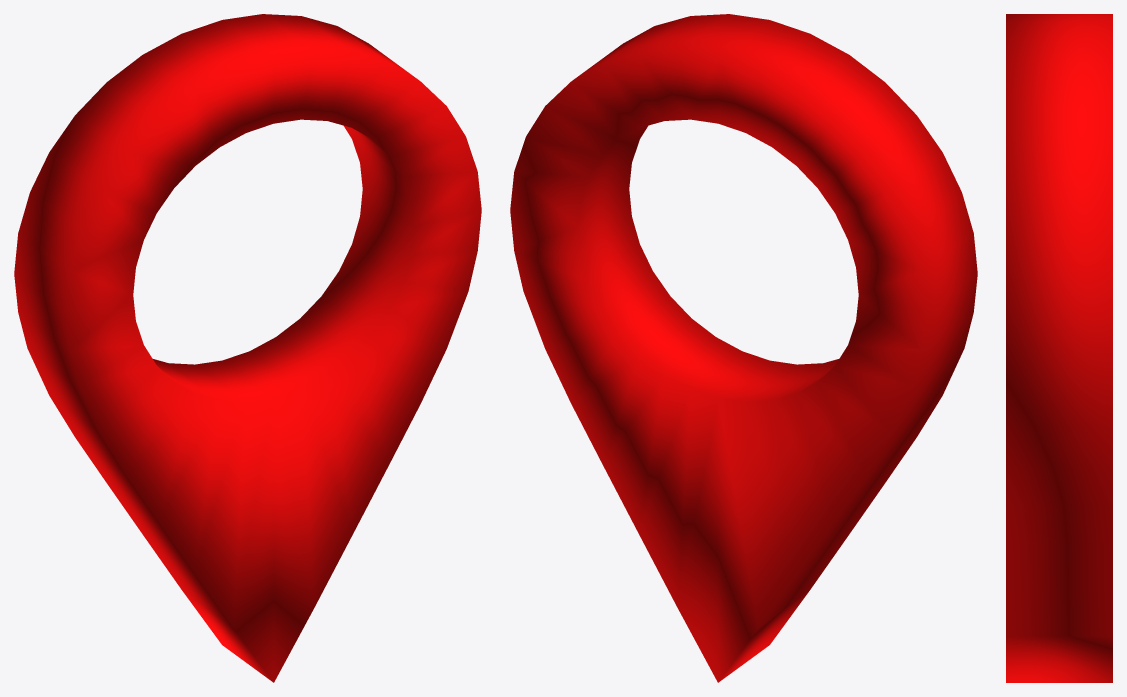
The model's file is pin.dae.
3 views of the same model, side by side, from view 1: azimuth 30°, elevation 25°; view 2: azimuth 150°, elevation 25°; view 3: azimuth 270°, elevation 25° (orthographic). The views are drawn at different scales.
Parts seen in each view (by area): view 1: pin; view 2: pin; view 3: pin.
Boxes of the visible parts, x1,y1,x2,y2 form: pin: (14,14,481,682); pin: (510,14,977,682); pin: (1006,14,1112,682).
Bounding box in the file's own units: 2.84 × 0.6132 × 4.08.
